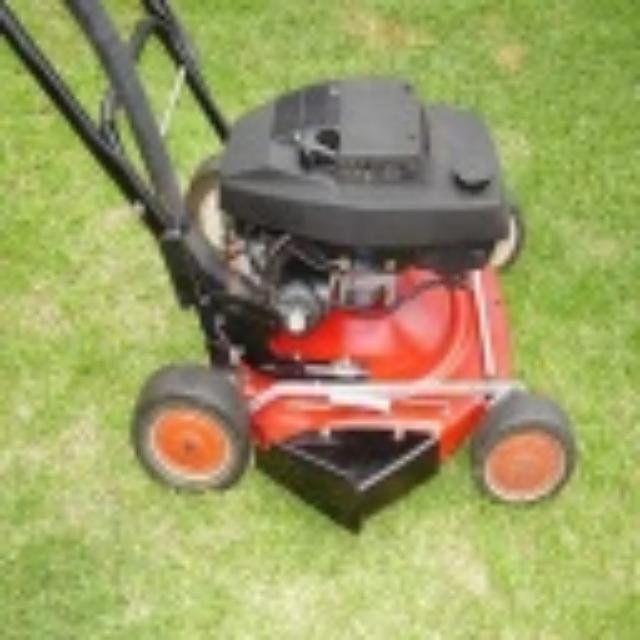Rotary-Mower: (1, 0, 616, 540)
